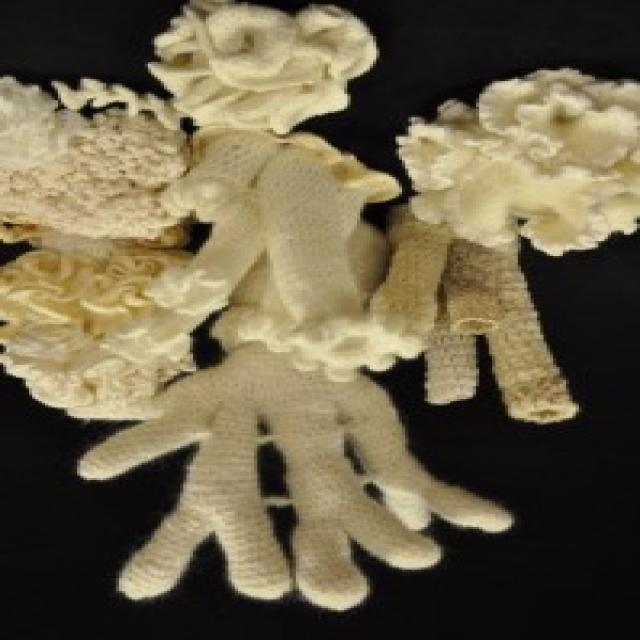Bleached: (1, 82, 579, 420), (94, 348, 501, 604), (396, 74, 640, 262), (158, 1, 375, 146)
